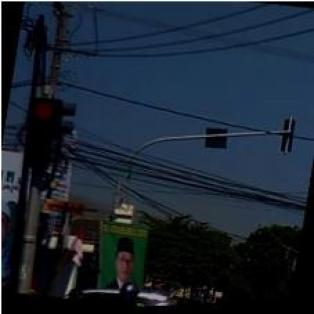Semaforo Rojo: (24, 97, 58, 170)
